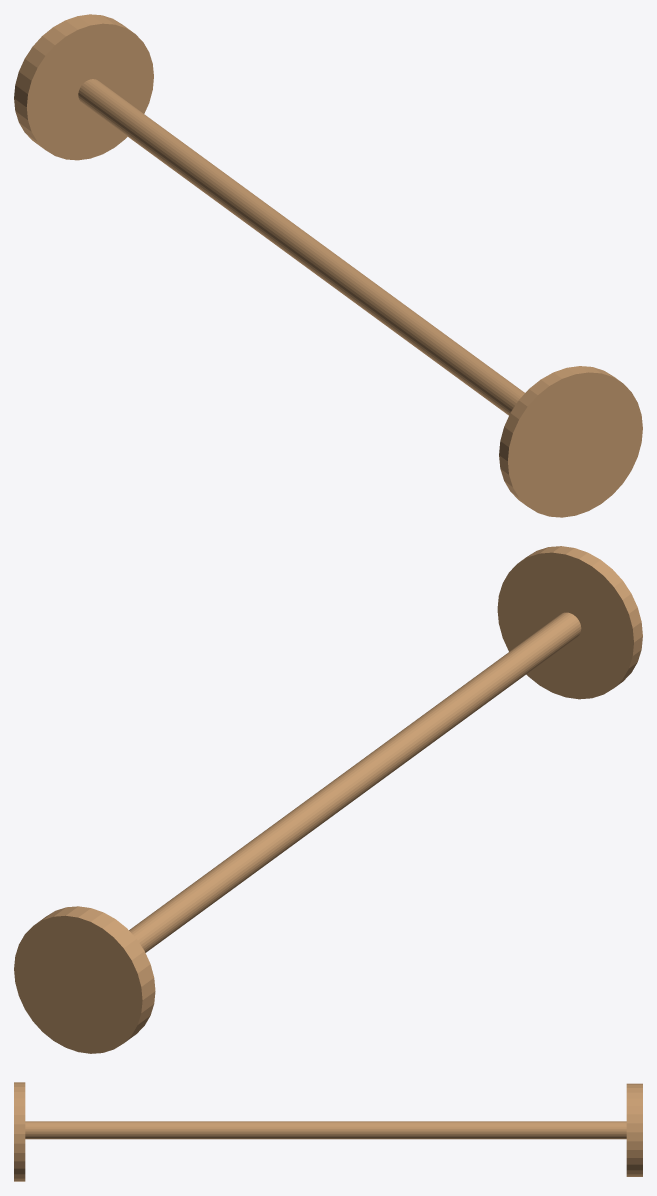
3 renders of one model, top to bottom at view 1: azimuth 30°, elevation 25°; view 2: azimuth 150°, elevation 25°; view 3: azimuth 270°, elevation 25°, orthographic. The views are drawn at different scales.
Parts seen in each view (by area): view 1: floorlamp.obj; view 2: floorlamp.obj; view 3: floorlamp.obj.
Boxes of the visible parts, x1=… form: floorlamp.obj: x1=14, y1=14, x2=642, y2=517; floorlamp.obj: x1=14, y1=546, x2=642, y2=1053; floorlamp.obj: x1=14, y1=1082, x2=642, y2=1181.
Bounding box in the file's own units: 0.2783 × 0.2783 × 1.76.
